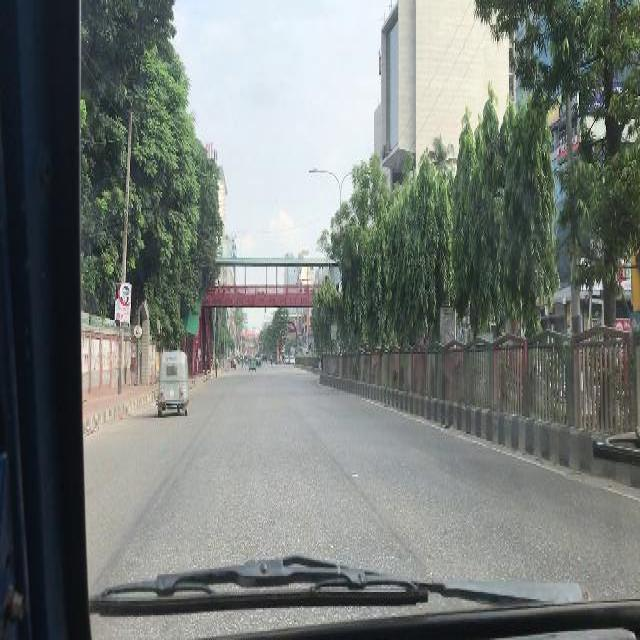vehicle: (156, 350, 191, 416), (249, 355, 255, 369), (289, 348, 296, 355), (289, 357, 295, 364), (256, 359, 262, 365), (284, 357, 288, 363)
